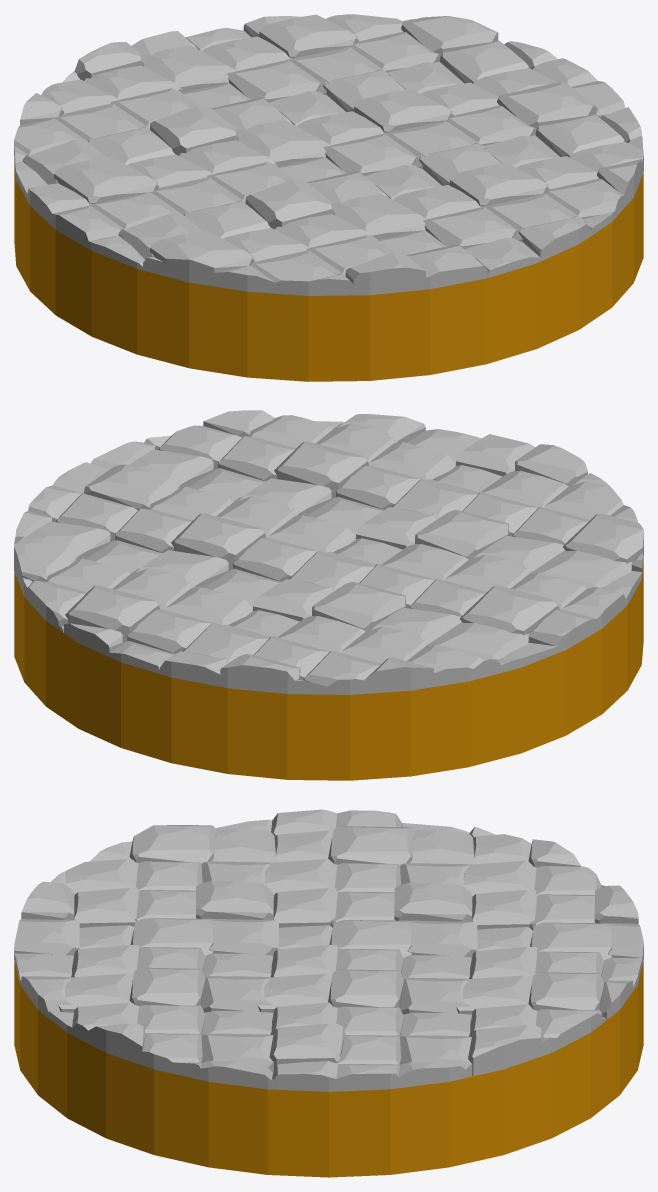
The model's file is crossings.glb.
3 views of the same model, one above another, from view 1: azimuth 30°, elevation 25°; view 2: azimuth 150°, elevation 25°; view 3: azimuth 270°, elevation 25° (orthographic).
Visible parts, largest first — view 1: crossings; view 2: crossings; view 3: crossings.
Boxes of the visible parts, <box> form: crossings: <box>14,14,643,381</box>; crossings: <box>14,410,643,780</box>; crossings: <box>14,809,643,1177</box>.
Bounding box in the file's own units: 15.01 × 2.9 × 15.01.
